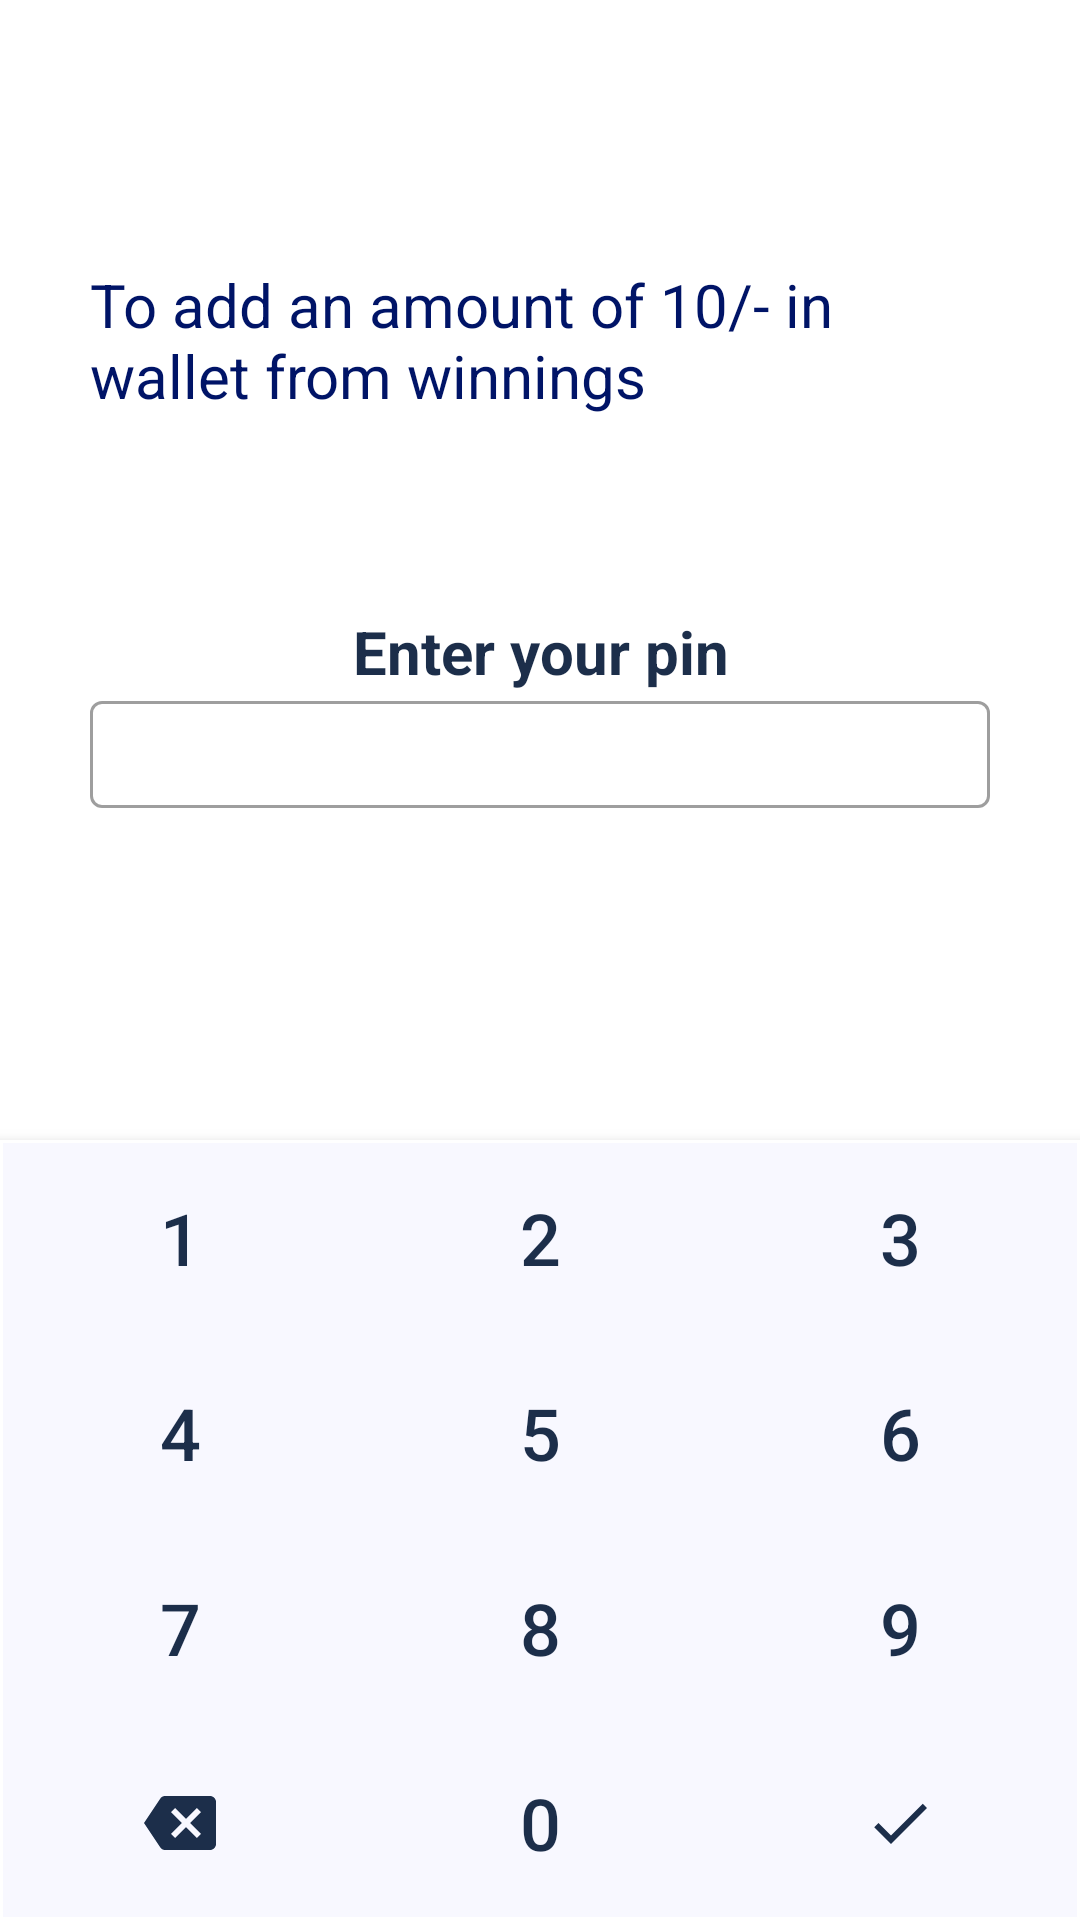

Icon click points for this 1080px×1920px phone screenshot, format (x,y):
backspace: (180,1823)
check: (900,1824)
